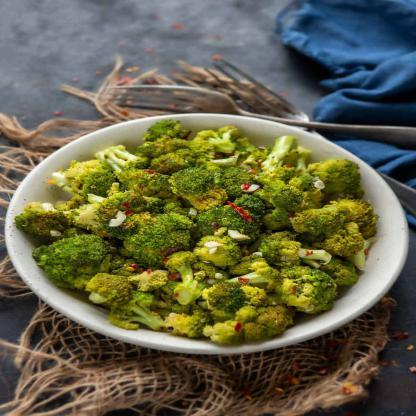broccoli: (10, 117, 382, 346)
